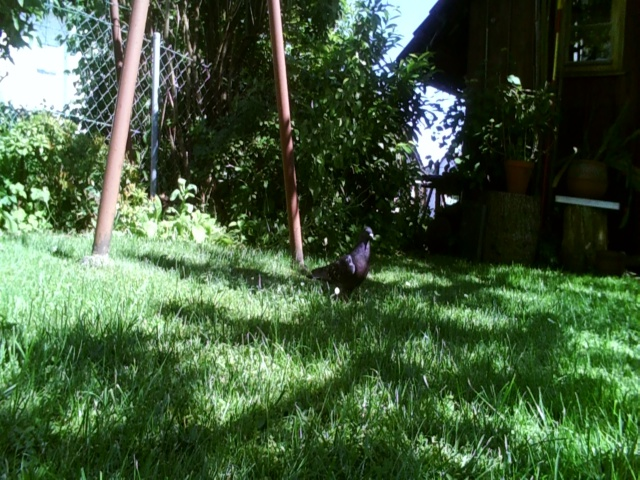Pigeon: (302, 226, 381, 299)
